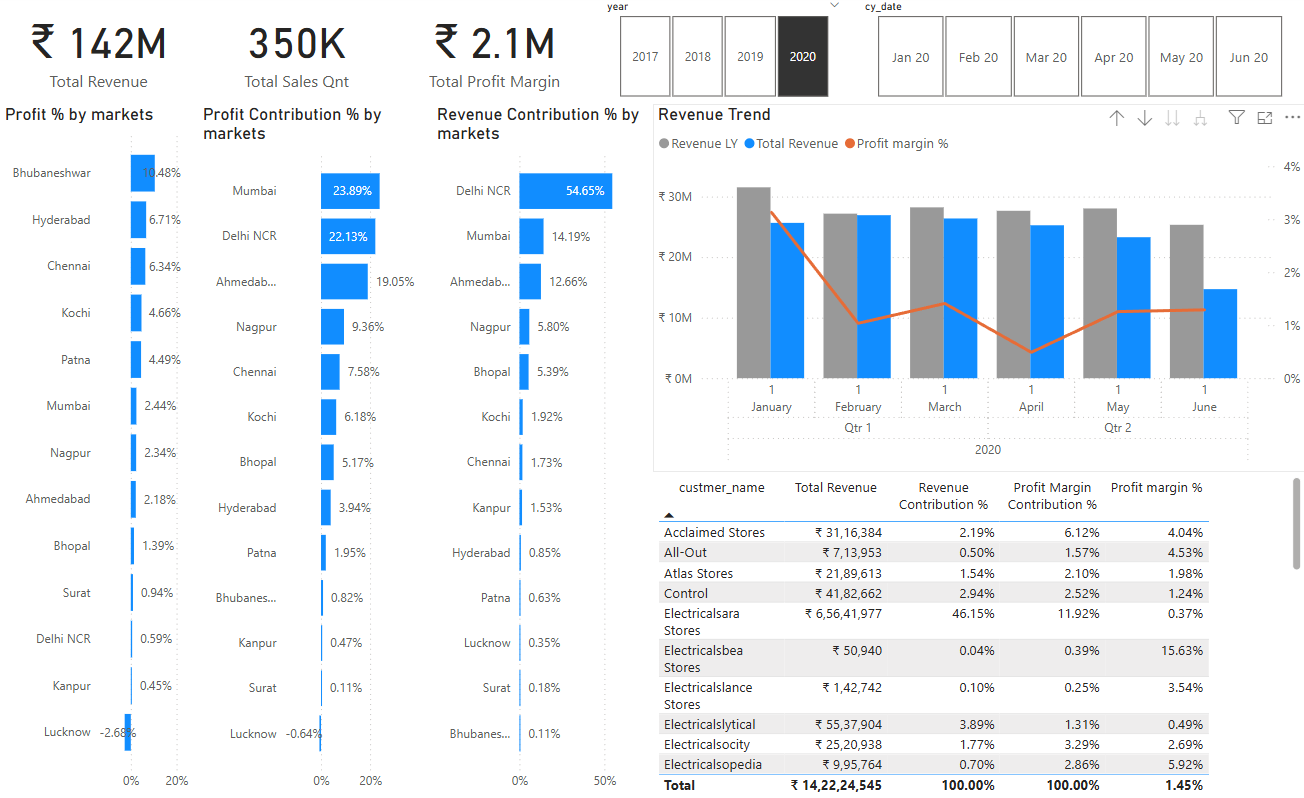

This screenshot's page, from the dashboard's own definition file:
{"tool":"powerbi","page":{"name":"Profit Analysis","canvas":[1300,800],"ordinal":1},"visuals":[{"type":"card","fields":{"Values":["Basemeasures.Total Profit Margin"]},"box":[394,0,197,108.5],"z":0},{"type":"card","fields":{"Values":["Basemeasures.Total Sales Qnt"]},"box":[197,0,197,108.5],"z":1000},{"type":"card","fields":{"Values":["Basemeasures.Total Revenue"]},"box":[0,0,197,108.5],"z":2000},{"type":"slicer","fields":{"Values":["sales date.cy_date"]},"box":[847.8,0,451.7,108.5],"z":3000},{"type":"slicer","fields":{"Values":["sales date.year"]},"box":[591,0,256.7,108.5],"z":4000},{"type":"barChart","title":"Profit % by markets","fields":{"Category":["sales markets.markets_name"],"Y":["Basemeasures.Profit margin %"]},"box":[0,108.5,197,691.5],"z":5000},{"type":"barChart","title":"Profit Contribution % by markets","fields":{"Category":["sales markets.markets_name"],"Y":["Basemeasures.Profit Margin Contribution %"]},"box":[197,108.5,232.8,691.5],"z":6000},{"type":"barChart","title":"Revenue Contribution % by markets","fields":{"Category":["sales markets.markets_name"],"Y":["Basemeasures.Revenue Contribution %"]},"box":[429.9,108.5,232.8,691.5],"z":7000},{"type":"tableEx","fields":{"Values":["sales customers.custmer_name","Basemeasures.Total Revenue","Basemeasures.Revenue Contribution %","Basemeasures.Profit Margin Contribution %","Basemeasures.Profit margin %"]},"box":[649.8,474.6,649.8,325.4],"z":8000},{"type":"lineClusteredColumnComboChart","title":"Revenue Trend","fields":{"Category":["sales date.cy_date.Variation.Date Hierarchy.Year","sales date.cy_date.Variation.Date Hierarchy.Quarter","sales date.cy_date.Variation.Date Hierarchy.Month","sales date.cy_date.Variation.Date Hierarchy.Day"],"Y":["Basemeasures.Revenue LY","Basemeasures.Total Revenue"],"Y2":["Basemeasures.Profit margin %"]},"box":[649.8,108.5,649.8,366.2],"z":9000}]}

Visuals, with their boxes in screenshot pixels (x1, y1, x2, y2), scaled from the page's 1300x800 canvas onto the 1304x798 screenshot:
card - Basemeasures.Total Profit Margin: region(395, 0, 593, 108)
card - Basemeasures.Total Sales Qnt: region(198, 0, 395, 108)
card - Basemeasures.Total Revenue: region(0, 0, 198, 108)
slicer - sales date.cy_date: region(850, 0, 1303, 108)
slicer - sales date.year: region(593, 0, 850, 108)
"Profit % by markets" barChart: region(0, 108, 198, 797)
"Profit Contribution % by markets" barChart: region(198, 108, 431, 797)
"Revenue Contribution % by markets" barChart: region(431, 108, 665, 797)
tableEx - sales customers.custmer_name x Basemeasures.Total Revenue: region(652, 473, 1303, 797)
"Revenue Trend" lineClusteredColumnComboChart: region(652, 108, 1303, 474)
